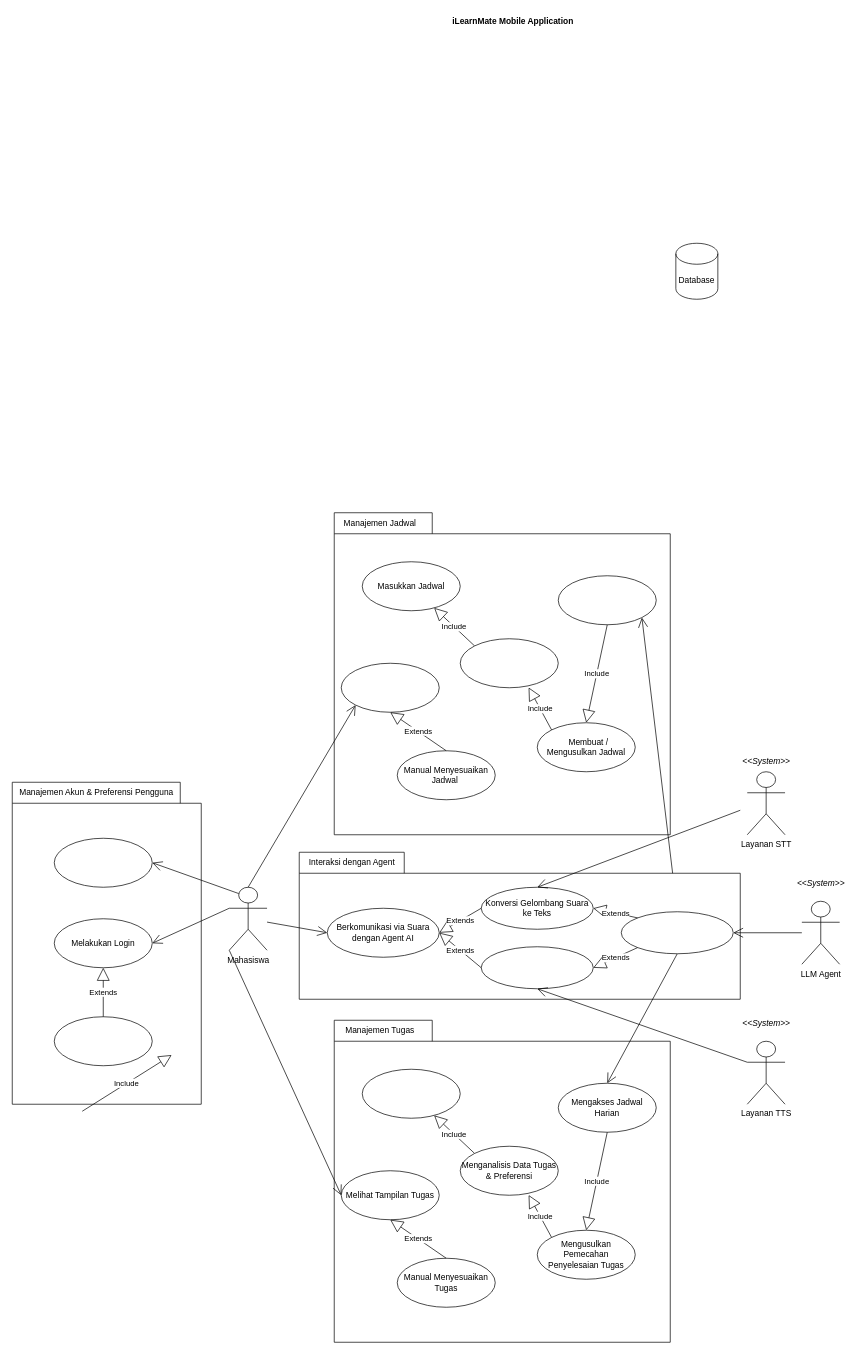
This 865x1355 diagram has some shape labels left out. Each missing label, with the box of its shape:
Kelola Preferensi AI dan Profil Pengguna: (54, 1016, 152, 1066)
Konversi Teks ke Suara: (481, 946, 593, 989)
Masukkan Tugas: (362, 1069, 460, 1118)
Melakukan Register: (54, 838, 152, 887)
Melihat Tampilan Jadwal: (341, 663, 439, 712)
Mengakses Kalender Eksternal: (558, 575, 656, 625)
Menganalisis Data Jadwal & Preferensi: (460, 638, 558, 688)
Prompt: (621, 911, 733, 954)
